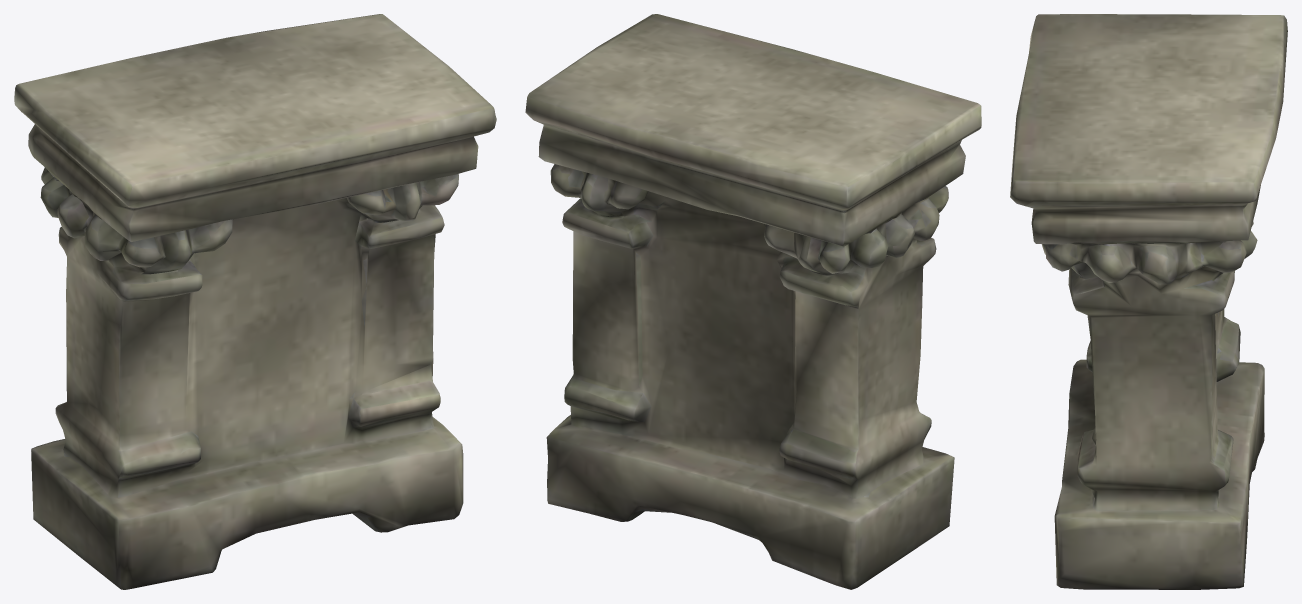
File: weathered-limestone-balcony-v001.glb
3 views of the same model, side by side, from view 1: azimuth 30°, elevation 25°; view 2: azimuth 150°, elevation 25°; view 3: azimuth 270°, elevation 25° (orthographic). The views are drawn at different scales.
Parts seen in each view (by area): view 1: weathered-limestone-balcony; view 2: weathered-limestone-balcony; view 3: weathered-limestone-balcony.
Part boxes in pixels (box(x1,y1,x2,y2)): weathered-limestone-balcony: box(14, 14, 496, 589); weathered-limestone-balcony: box(525, 14, 981, 589); weathered-limestone-balcony: box(1010, 14, 1287, 589).
Size of the model in its own units: 1.08 by 1.21 by 0.7238.
1 material, 1 textured.
